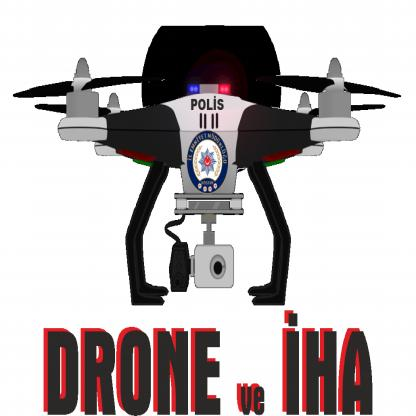drone: (13, 55, 412, 260)
